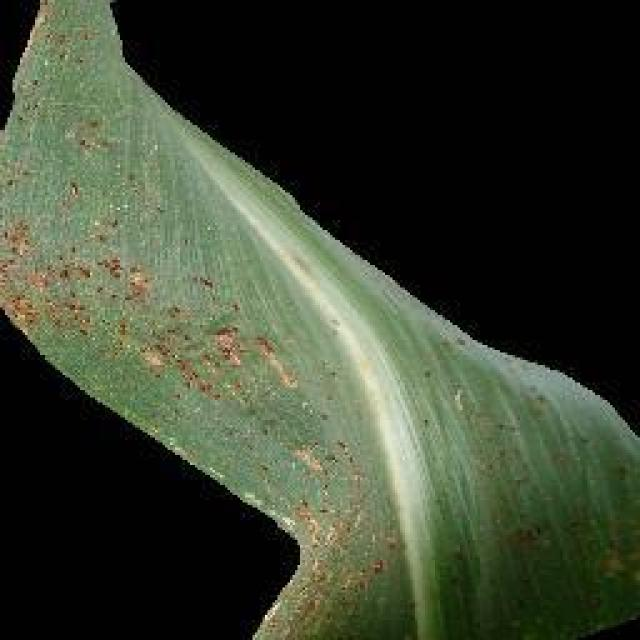Corn Common Rust: (10, 98, 353, 525)
